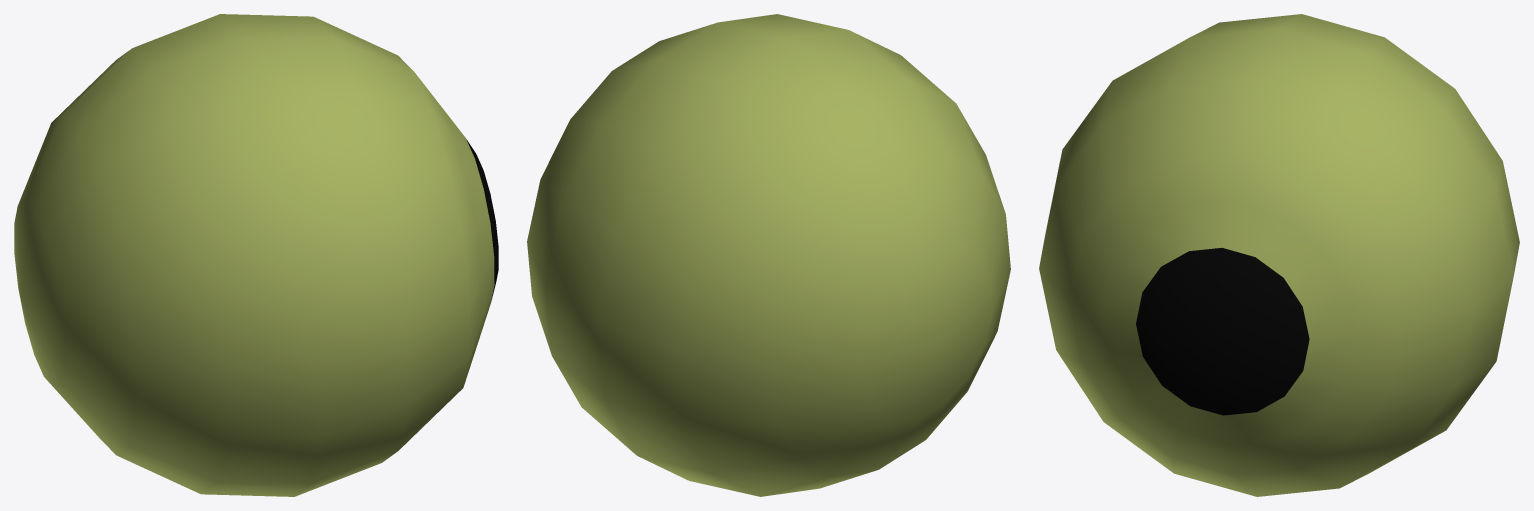
File: parrot_eye.obj
3 views of the same model, side by side, from view 1: azimuth 30°, elevation 25°; view 2: azimuth 150°, elevation 25°; view 3: azimuth 270°, elevation 25° (orthographic).
Visible parts, largest first — view 1: eye; view 2: eye; view 3: eye.
Part boxes in pixels (x1,y1,x2,y2): eye: (14,14,498,496); eye: (527,14,1010,496); eye: (1039,14,1519,496).
Bounding box in the file's own units: 0.00976 × 0.00985 × 0.00979.
